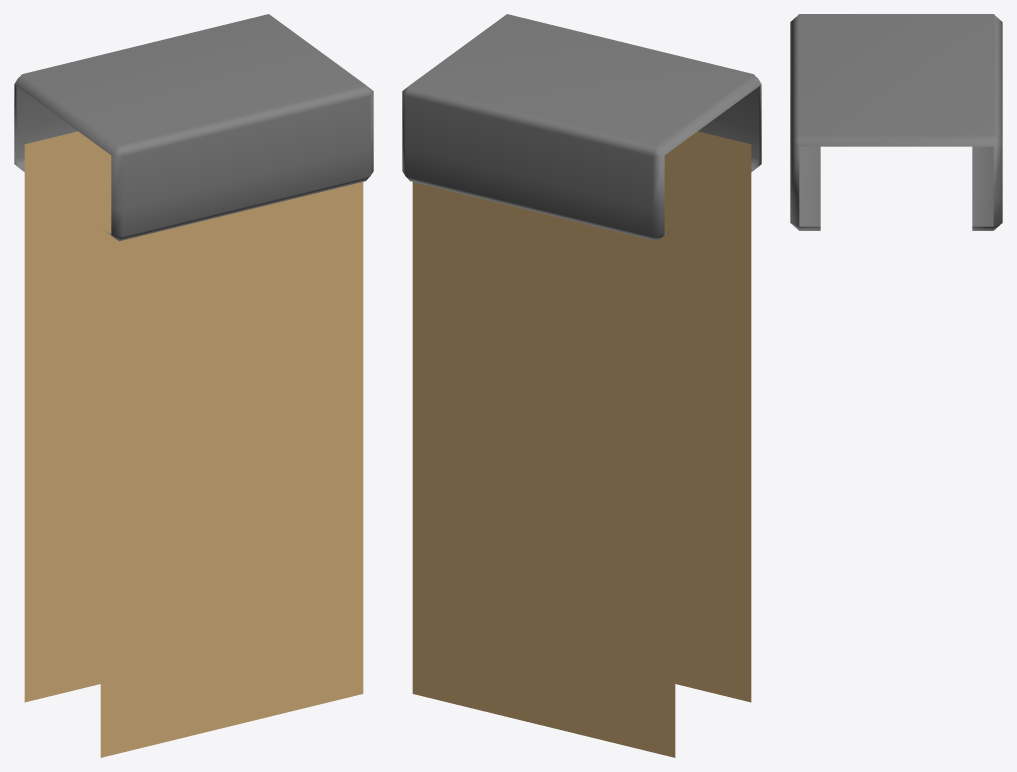
Rendered from SM_WallA_2x4_LOD1.fbx.
3 renders of one model, left to right at view 1: azimuth 30°, elevation 25°; view 2: azimuth 150°, elevation 25°; view 3: azimuth 270°, elevation 25°, orthographic.
Visible parts, largest first — view 1: SM_WallA_2x4_LOD1; view 2: SM_WallA_2x4_LOD1; view 3: SM_WallA_2x4_LOD1.
Part boxes in pixels (x1,y1,x2,y2): SM_WallA_2x4_LOD1: [14, 14, 373, 757]; SM_WallA_2x4_LOD1: [402, 14, 761, 757]; SM_WallA_2x4_LOD1: [790, 14, 1002, 230].
Bounding box in the file's own units: 2 × 4.5 × 1.4.
